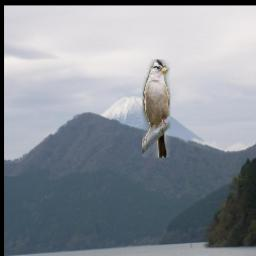Sparrow: (142, 60, 170, 159)
